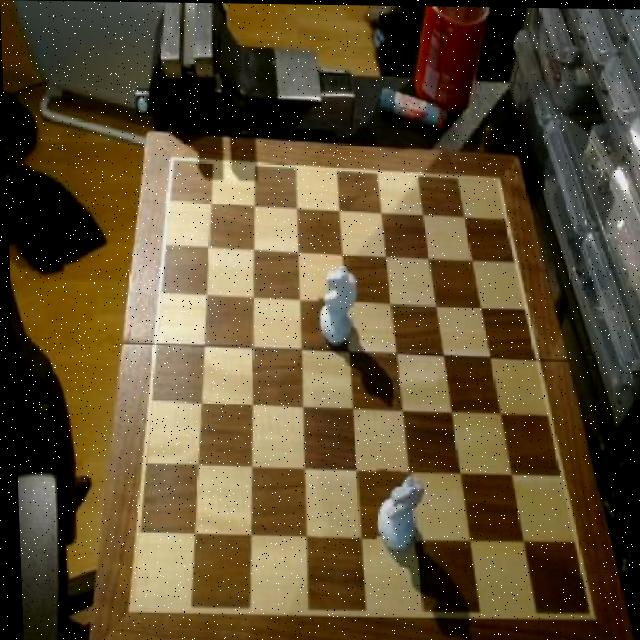white-king: (369, 470, 424, 555), (313, 264, 358, 348)
